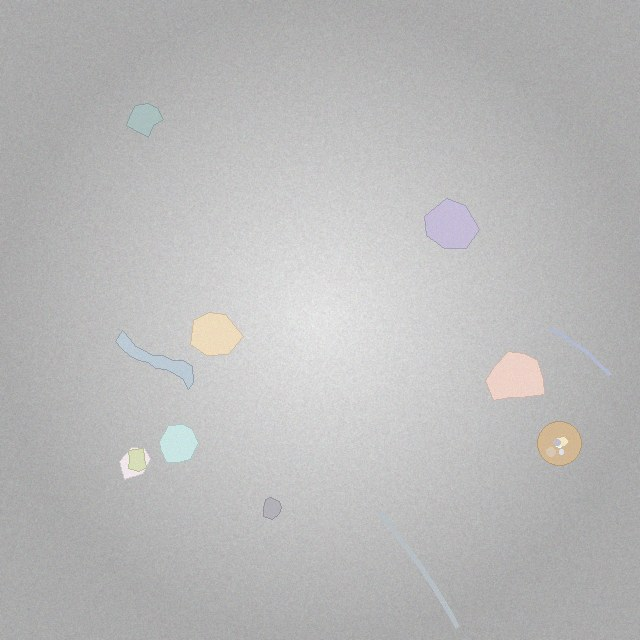fiber: (374, 507, 463, 633), (545, 325, 614, 380)
film: (115, 330, 193, 389)
foam: (537, 421, 581, 465)
fragment: (485, 351, 544, 400), (424, 198, 479, 249), (190, 312, 244, 355), (159, 424, 199, 463), (127, 104, 164, 137), (119, 448, 150, 479), (263, 497, 282, 520), (128, 449, 146, 472)
